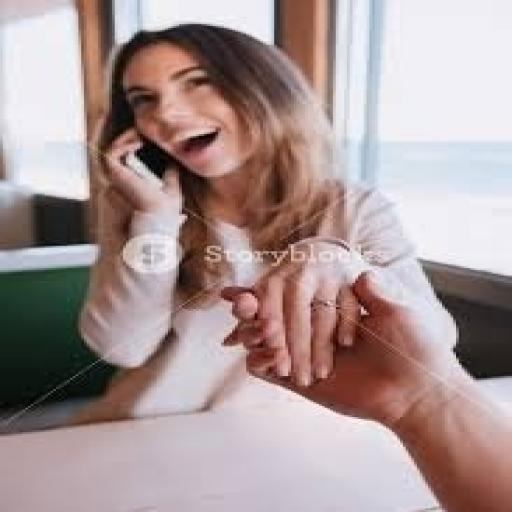laughing: (67, 20, 459, 396)
